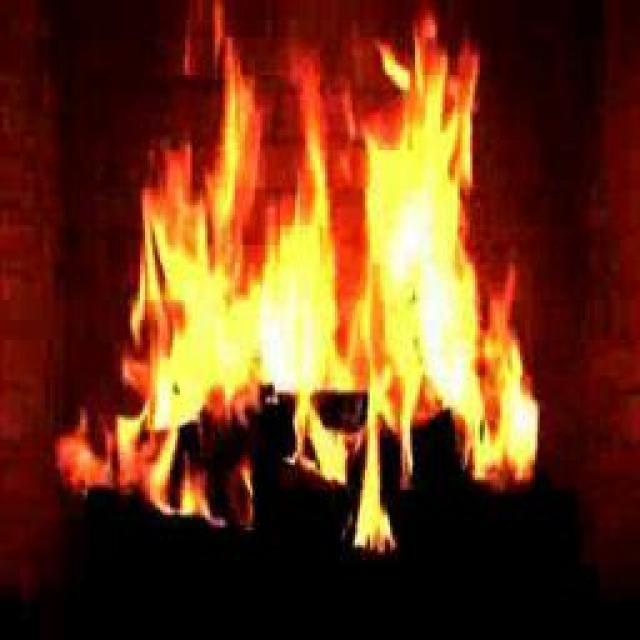Fire: (154, 51, 525, 480)
